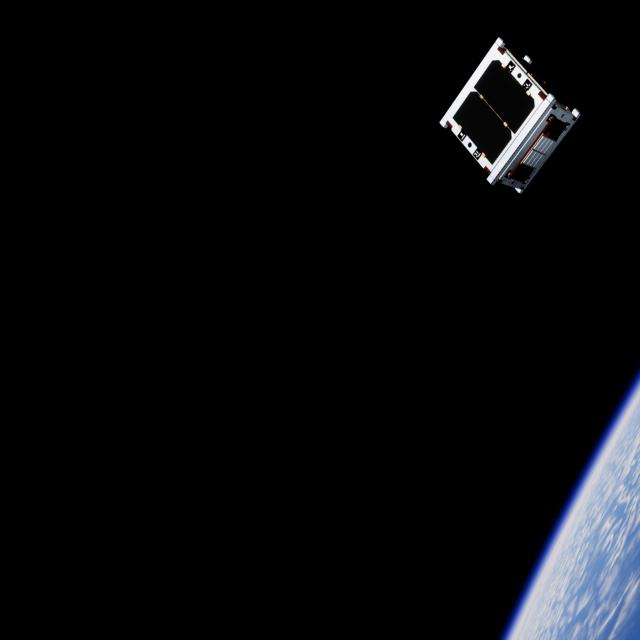satellite: (432, 36, 586, 202)
